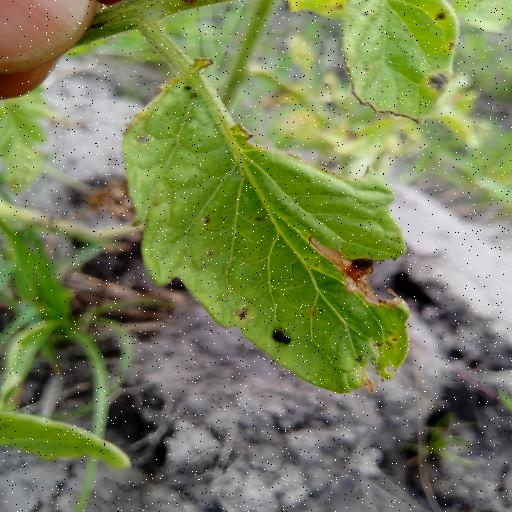Tomato_Brown_Spots: (117, 52, 413, 397), (340, 0, 464, 123)
